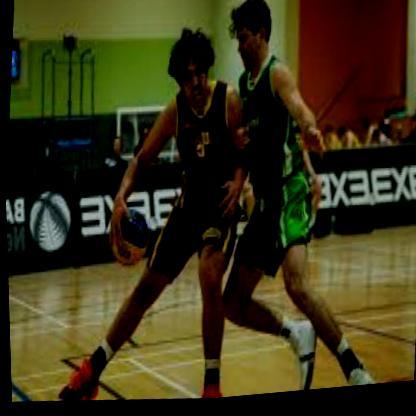basketball: (107, 209, 150, 273)
